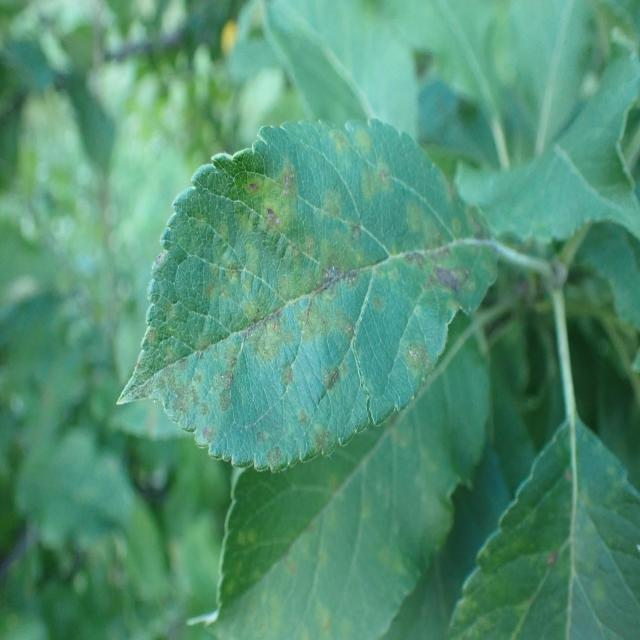scab: (132, 155, 502, 444)
